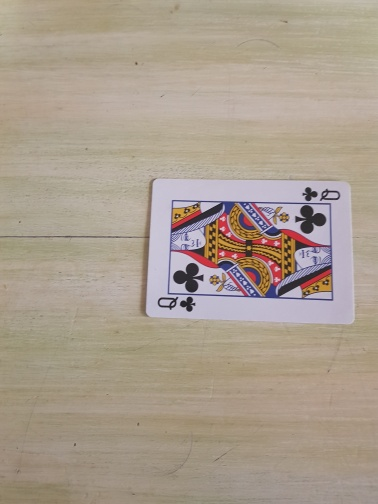queen: (144, 178, 357, 326)
